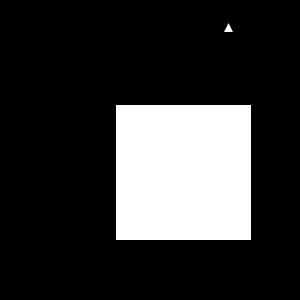circle: (116, 105, 251, 240)
triangle: (224, 23, 233, 32)
